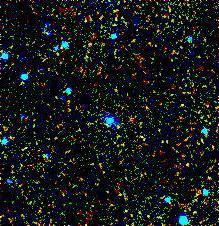star: (103, 110, 133, 140)
